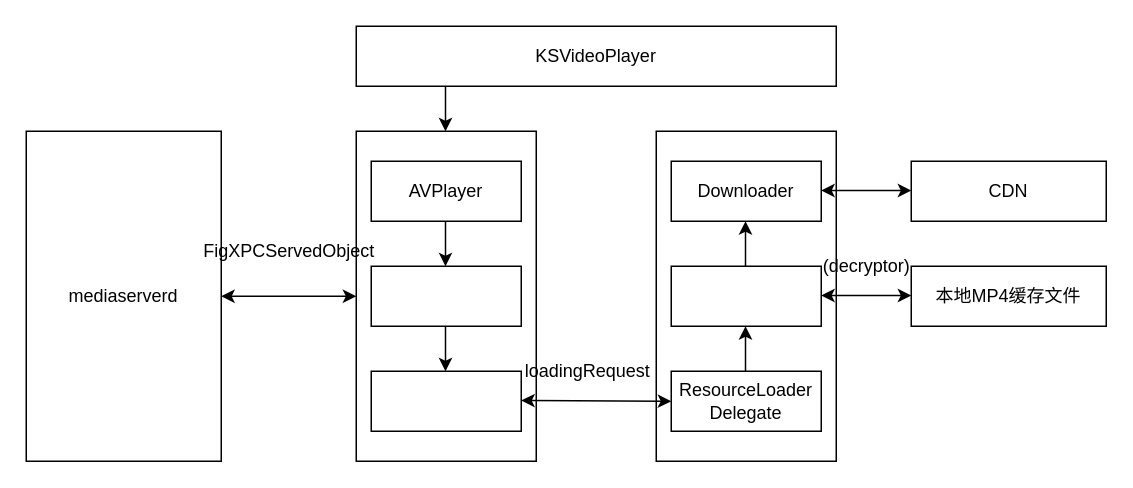
Some shapes in this 1133 by 488 pixel diagram are drawn without their labels. The centre of each missing label's shape, as x and y in pixels:
AVPlayerItem: point (445, 295)
AVURLAsset: point (445, 400)
FileCache: point (745, 295)
